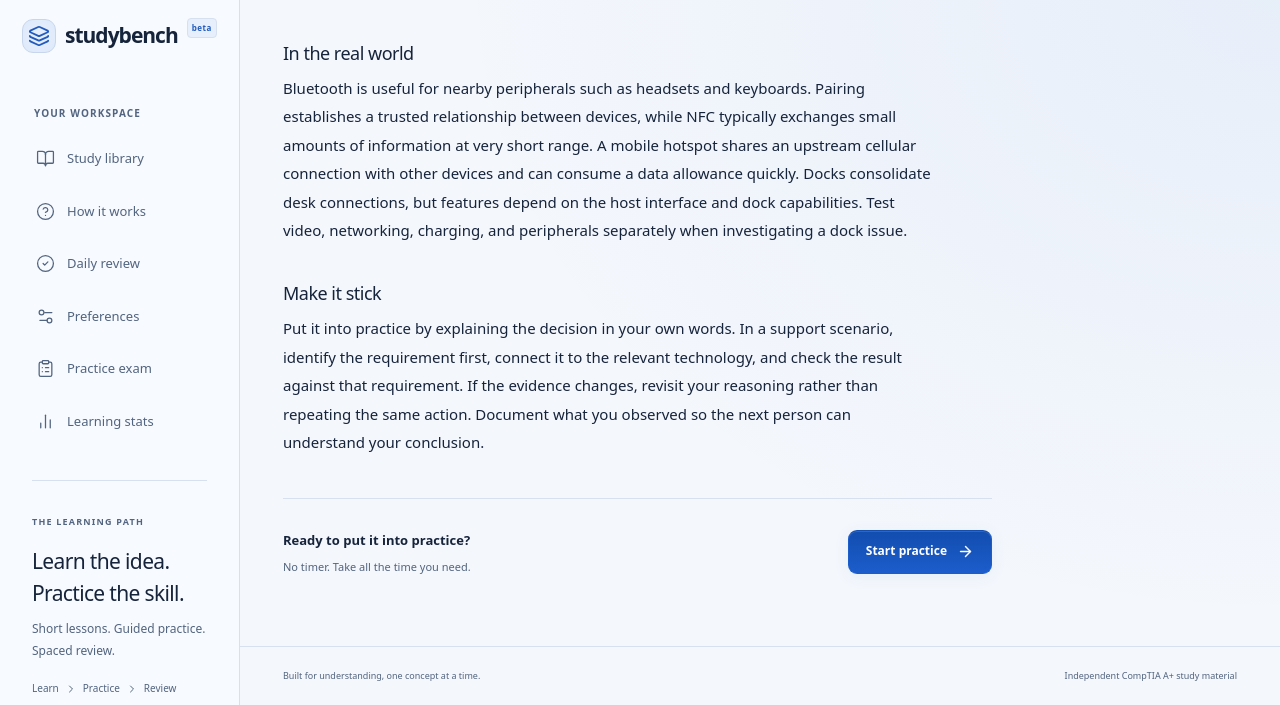
Test case: study routes and recovery › starts at a later section and saves/resumes it without locking the earlier section
(page scrolled)
What coordinates should you click on to do the following:
click the button "Start practice"
I would click on:
 (920, 552)
Its box is [848,530,992,574].
(page scrolled)
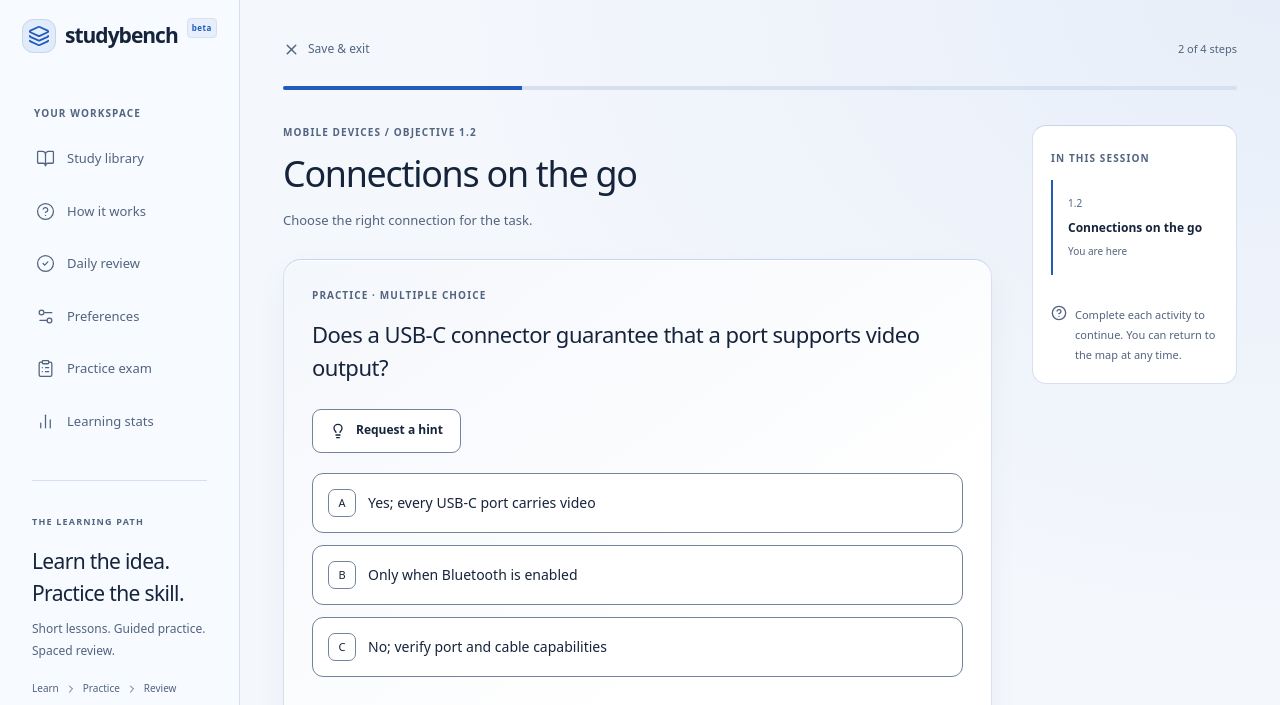
What coordinates should you click on to do the following:
click the link "Save & exit"
I would click on:
 (326, 49)
Its box is [283,40,370,58].
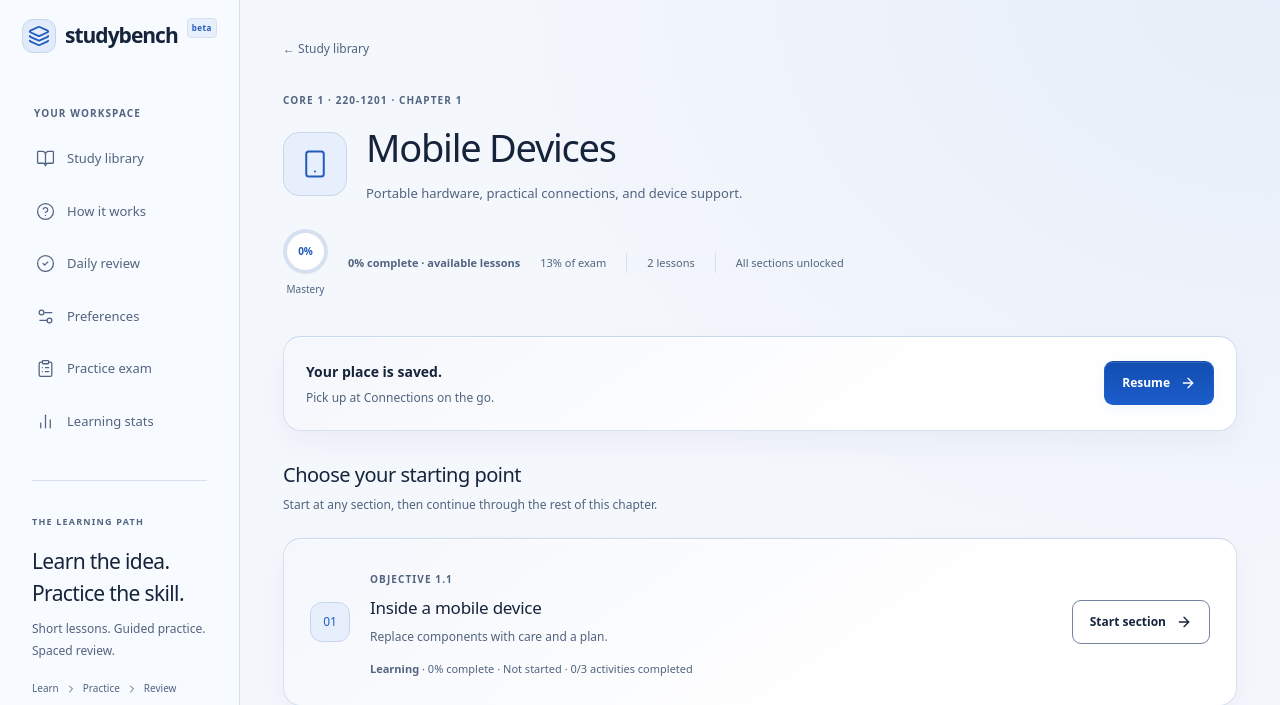
Expected: the number of links "Start section" is 2
